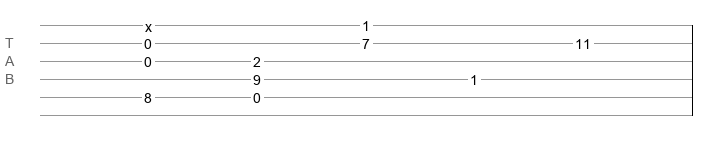0: (144, 54, 152, 64), (144, 36, 152, 46), (253, 90, 261, 100)
1: (362, 18, 370, 28), (470, 72, 478, 82)
11: (575, 36, 591, 46)
2: (253, 54, 261, 64)
7: (362, 36, 370, 46)
8: (144, 90, 152, 100)
9: (253, 72, 261, 82)
x: (145, 19, 152, 27)
